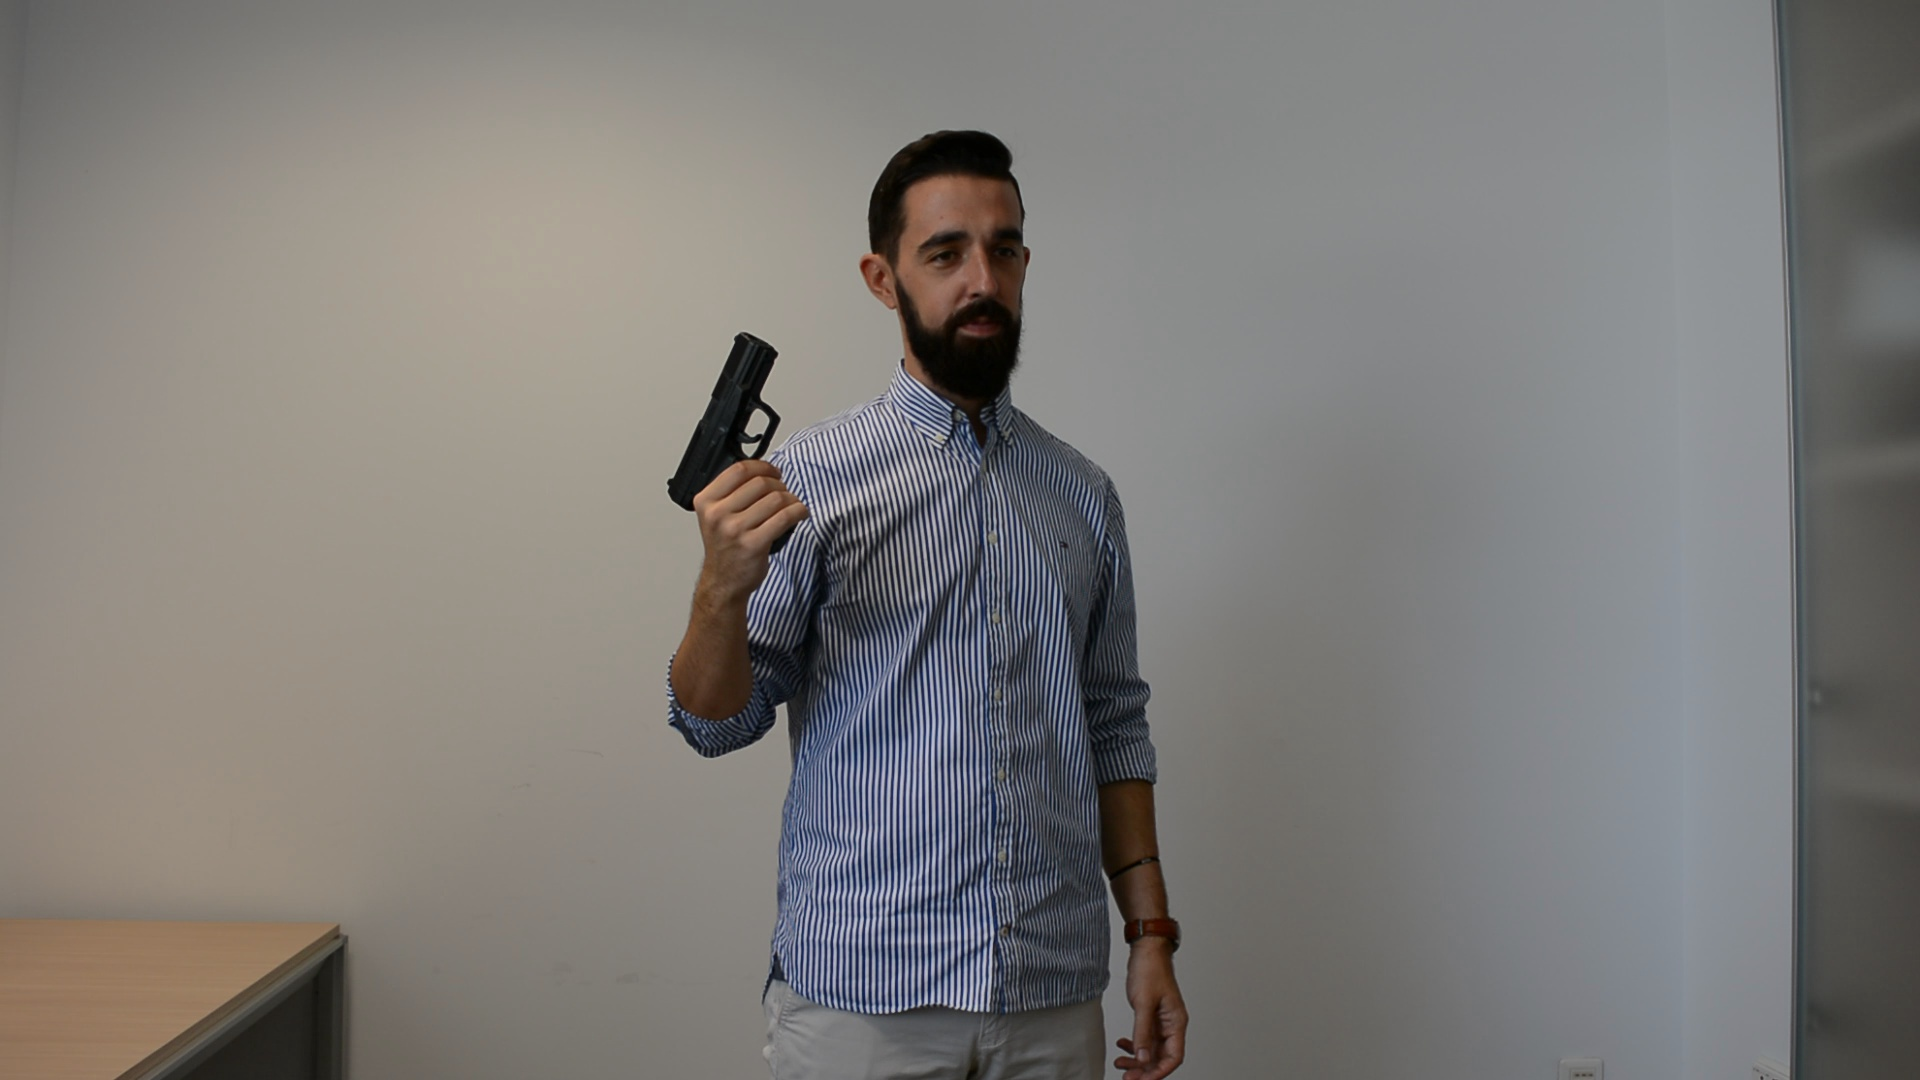pistol: (666, 326, 804, 559)
